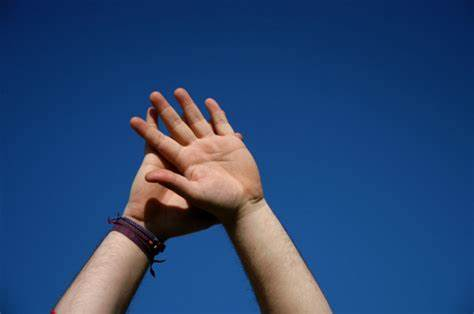no-phone: (112, 71, 284, 244)
